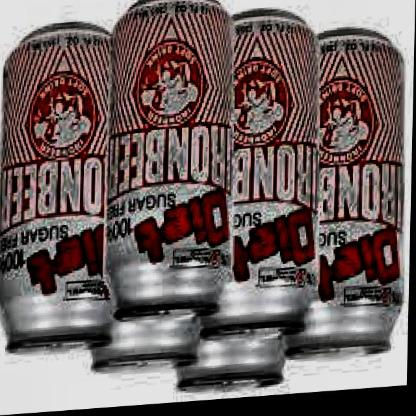Can: (194, 3, 330, 352), (102, 0, 238, 334), (278, 28, 410, 370), (0, 15, 120, 361)
